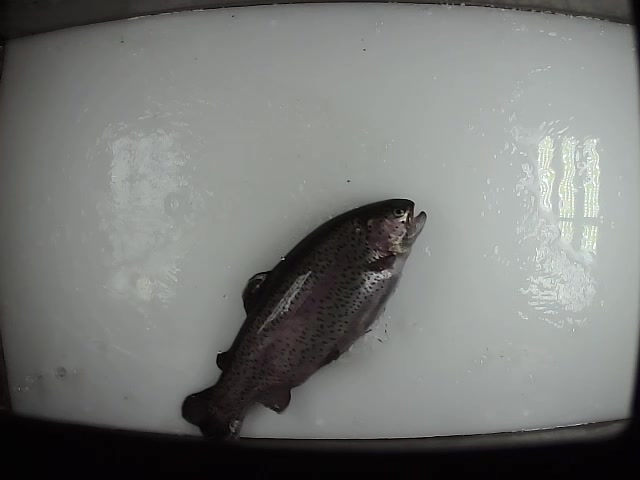fish: (178, 196, 430, 445)
